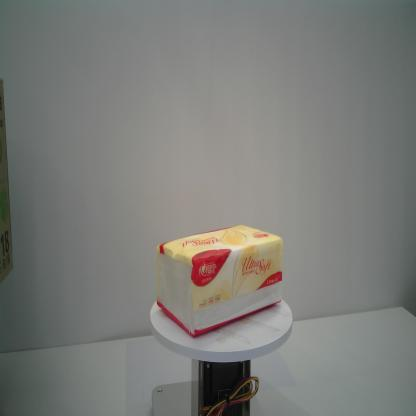Tissue: (154, 223, 284, 338)
